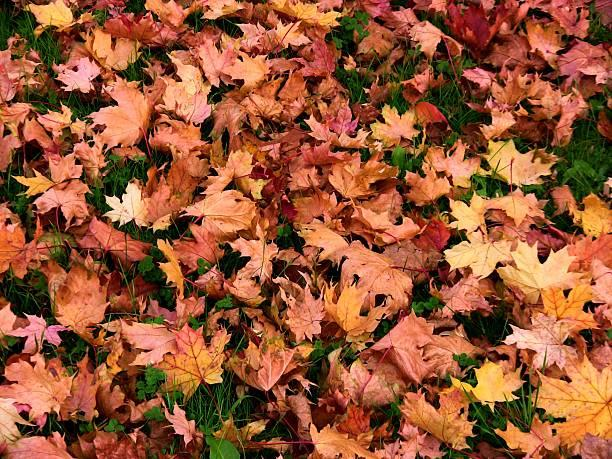organic: (536, 354, 609, 446), (365, 311, 449, 390), (334, 245, 414, 317), (500, 240, 584, 307), (2, 353, 73, 428), (48, 260, 112, 342), (398, 387, 476, 454), (504, 313, 591, 372), (87, 82, 154, 155), (229, 340, 303, 399), (183, 185, 260, 241), (147, 154, 206, 221), (478, 138, 555, 189), (112, 316, 179, 370), (326, 155, 395, 207), (455, 360, 527, 409), (444, 235, 515, 283), (348, 200, 419, 248), (228, 228, 281, 291), (32, 179, 92, 232), (307, 421, 390, 459), (279, 284, 326, 345), (445, 2, 496, 57), (85, 27, 141, 76), (148, 119, 207, 165), (483, 189, 545, 232), (555, 39, 609, 88), (543, 90, 589, 147), (435, 273, 492, 319), (101, 181, 153, 229), (369, 102, 423, 148), (490, 416, 552, 456), (216, 46, 269, 92), (402, 163, 455, 209), (300, 221, 354, 265), (153, 238, 189, 302), (2, 48, 43, 102), (288, 186, 339, 229), (298, 138, 352, 177), (94, 372, 134, 424), (162, 400, 203, 450), (269, 1, 342, 29), (212, 146, 259, 189), (53, 54, 102, 95), (210, 95, 250, 145), (523, 18, 566, 64), (1, 214, 32, 277), (299, 34, 339, 82), (88, 428, 149, 459), (446, 196, 491, 237), (572, 192, 612, 238), (166, 54, 206, 99), (355, 23, 399, 63), (473, 106, 519, 144), (547, 2, 591, 38), (26, 1, 76, 31), (0, 299, 31, 347), (20, 112, 56, 153), (265, 18, 309, 51), (275, 67, 309, 107), (400, 66, 440, 100), (12, 168, 57, 198), (143, 0, 189, 29), (325, 102, 360, 138), (259, 168, 294, 204), (199, 0, 244, 23), (461, 65, 496, 93), (206, 436, 242, 459), (44, 324, 71, 348)
